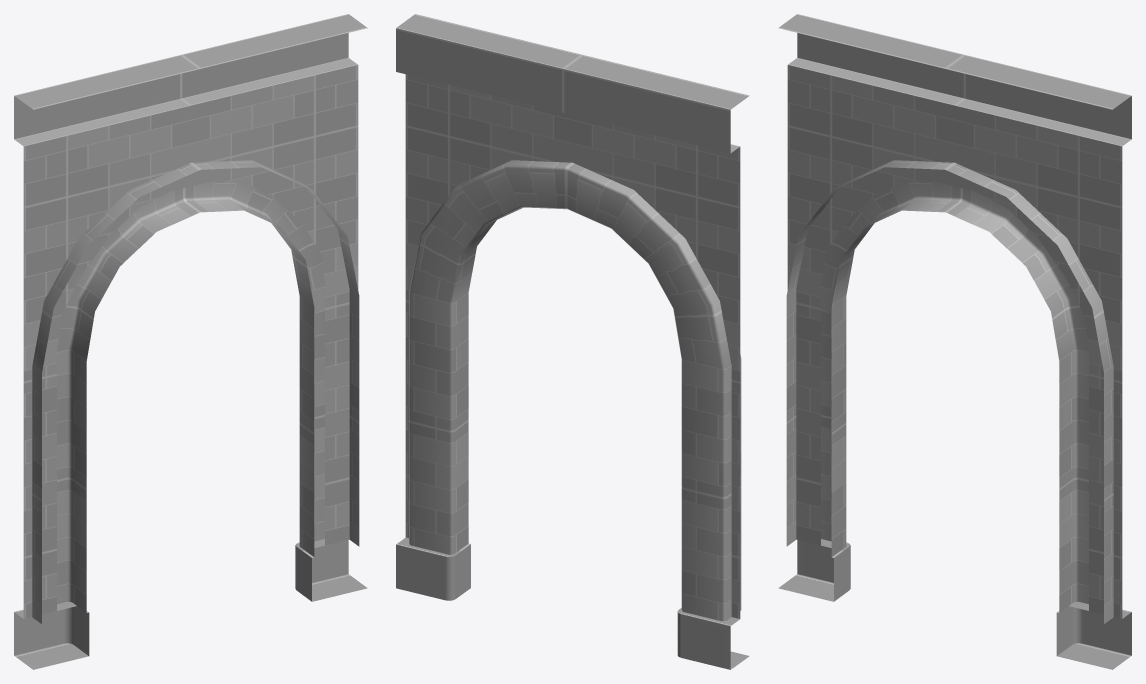
File: proto_wall_door_01.fbx
3 views of the same model, side by side, from view 1: azimuth 30°, elevation 25°; view 2: azimuth 150°, elevation 25°; view 3: azimuth 330°, elevation 25° (orthographic).
Parts seen in each view (by area): view 1: proto_wall_door_01; view 2: proto_wall_door_01; view 3: proto_wall_door_01.
Part boxes in pixels (x1,y1,x2,y2): proto_wall_door_01: (14, 14, 367, 669); proto_wall_door_01: (396, 14, 749, 669); proto_wall_door_01: (778, 14, 1131, 669).
Size of the model in its own units: 200 by 320 by 20.
